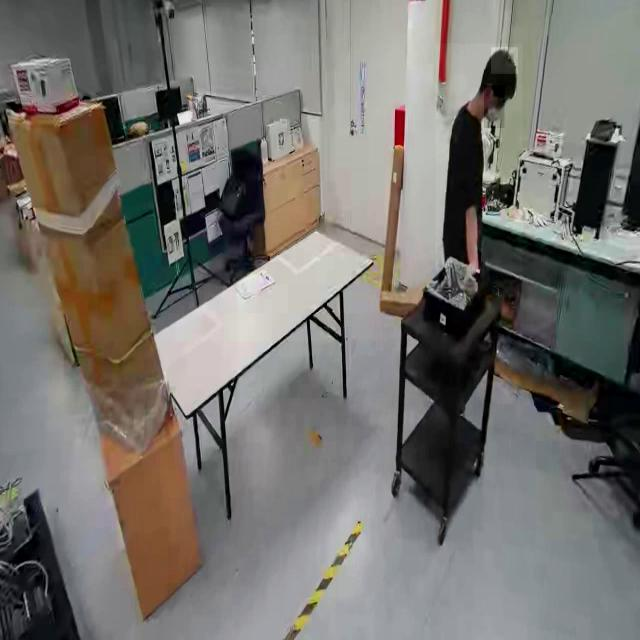face_mask: (484, 85, 504, 128)
head_nohelmet: (490, 47, 518, 75)
person: (435, 44, 523, 272)
